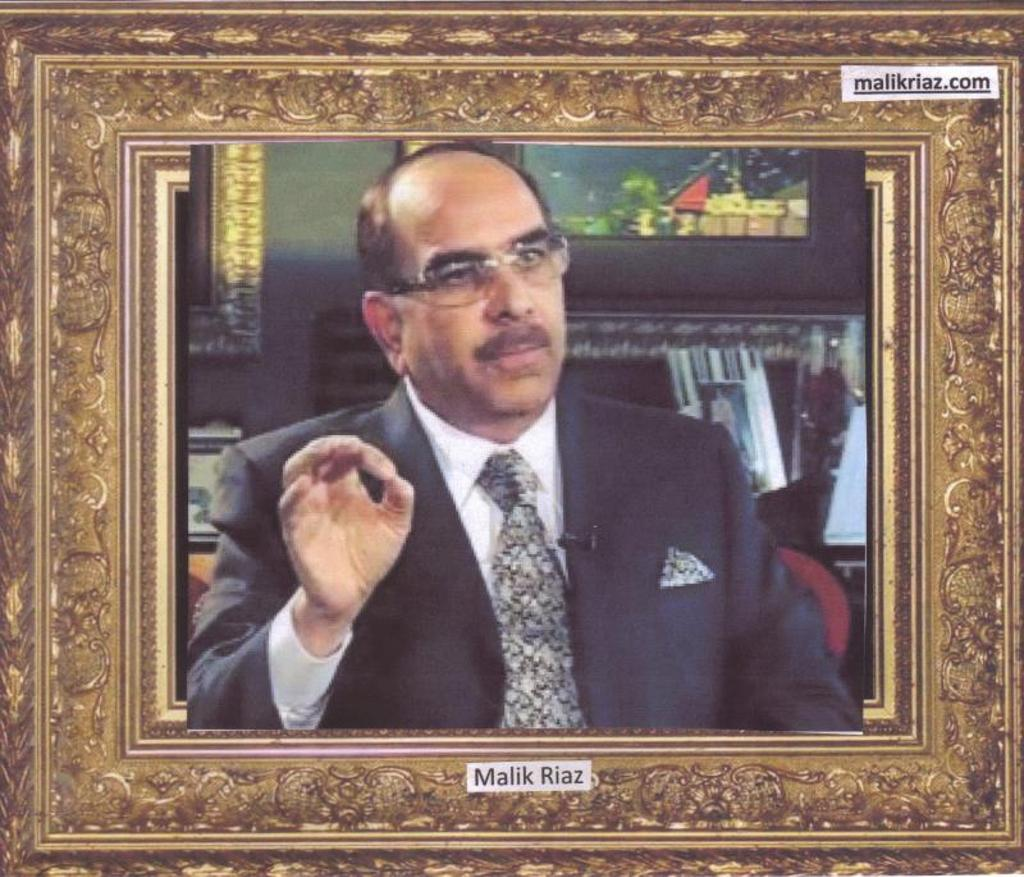face: (394, 152, 562, 408)
